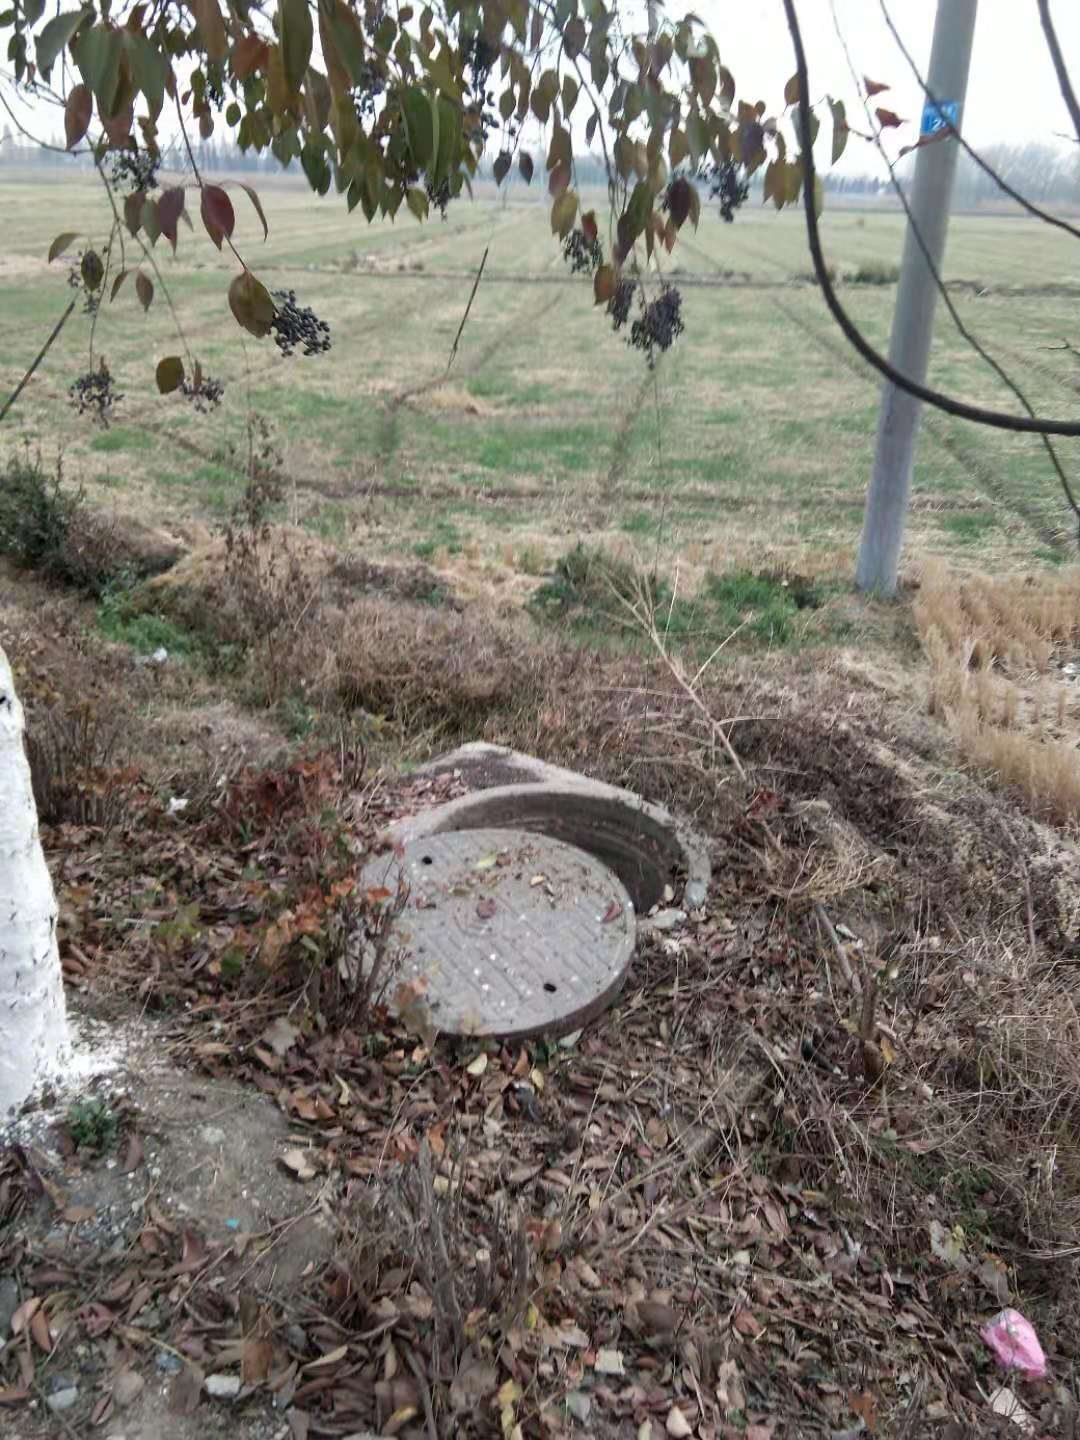uncovered: (337, 777, 712, 1037)
